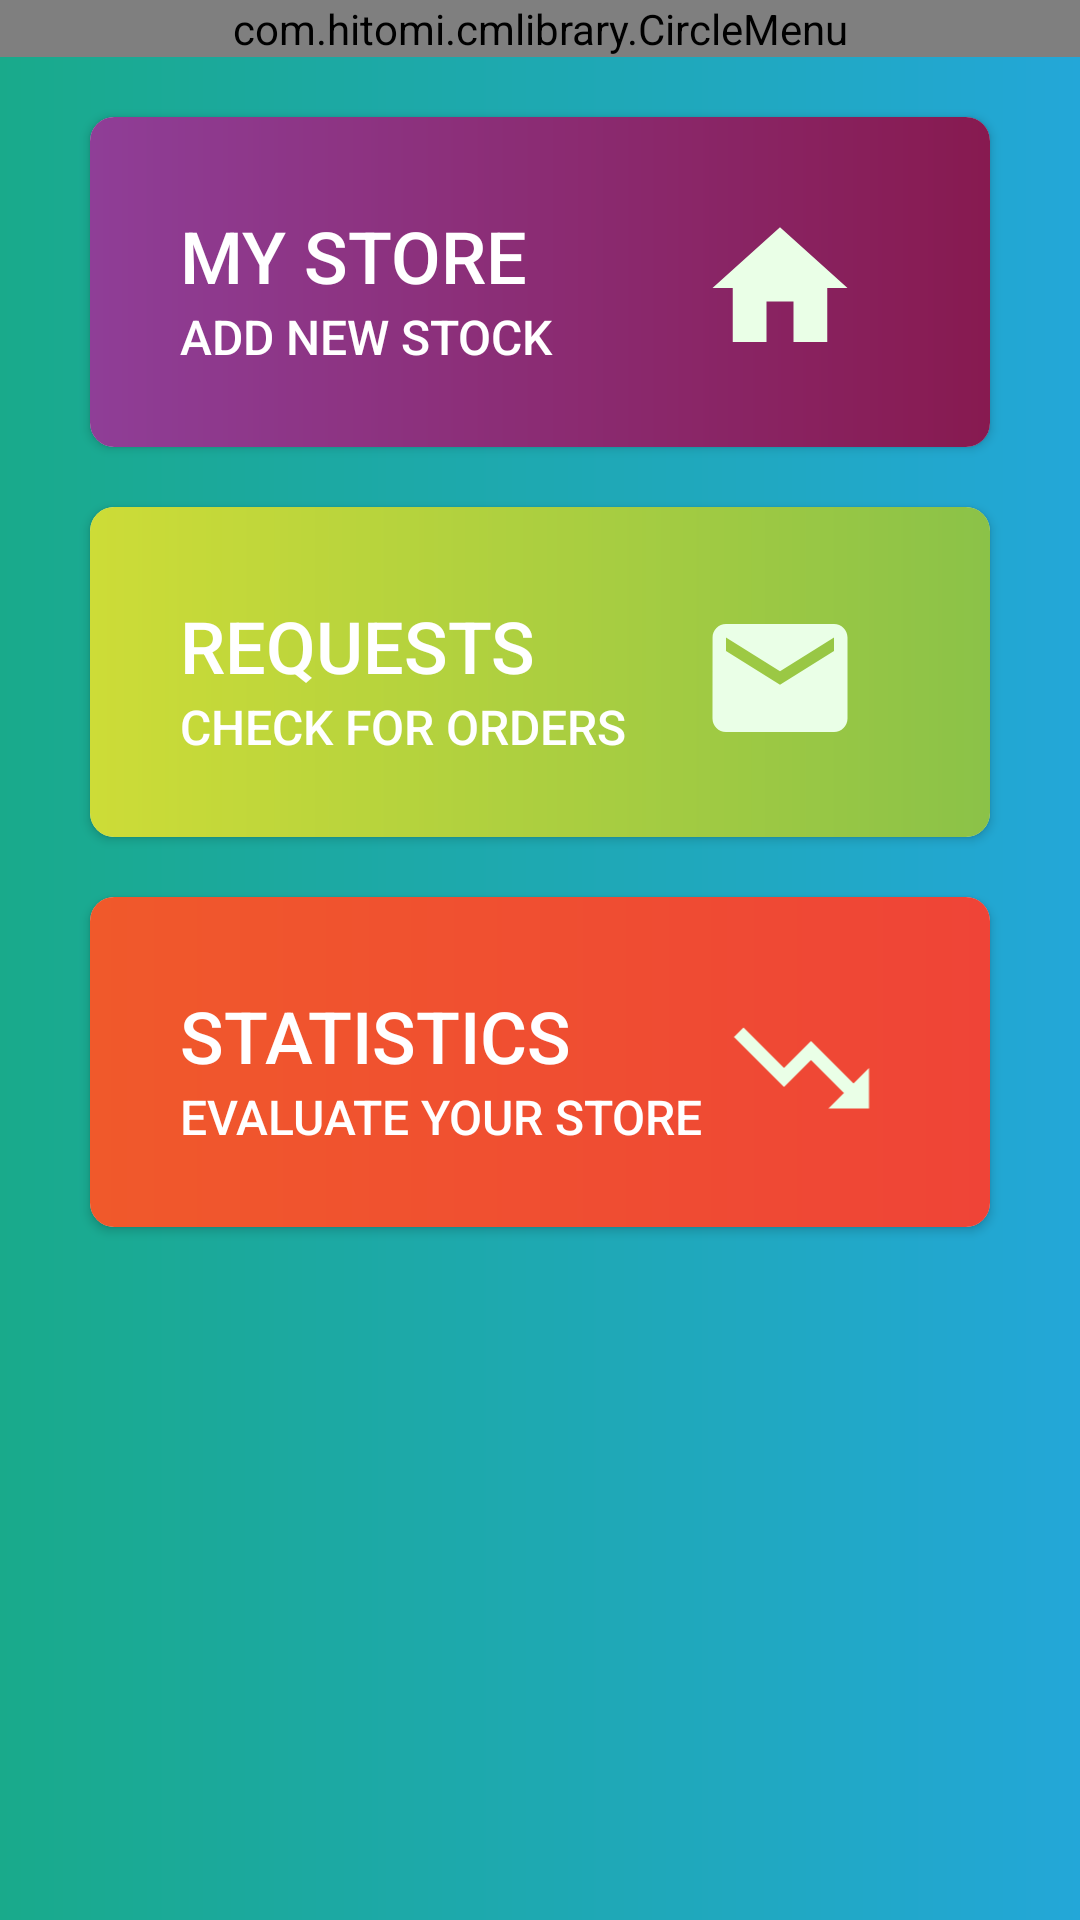

Where icons sit on this 1080px×1920px app screen, as (x1, y1, x2, y2):
home: (713, 227, 847, 342)
stats: (734, 1028, 870, 1109)
